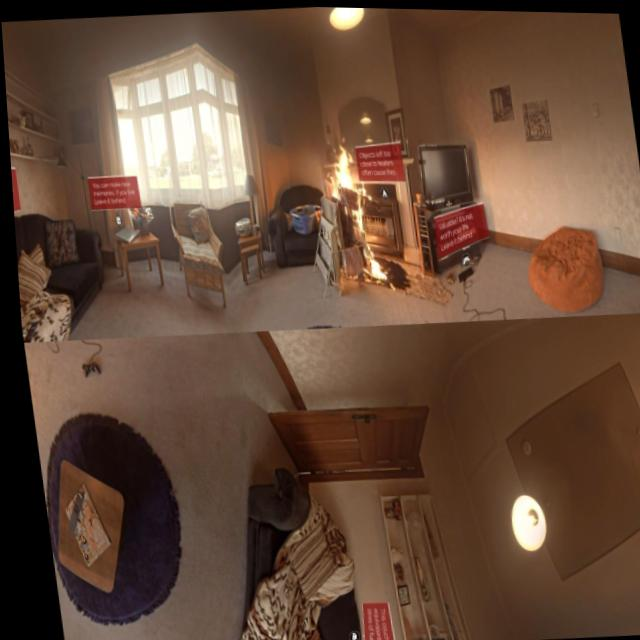fire: (322, 133, 383, 282)
